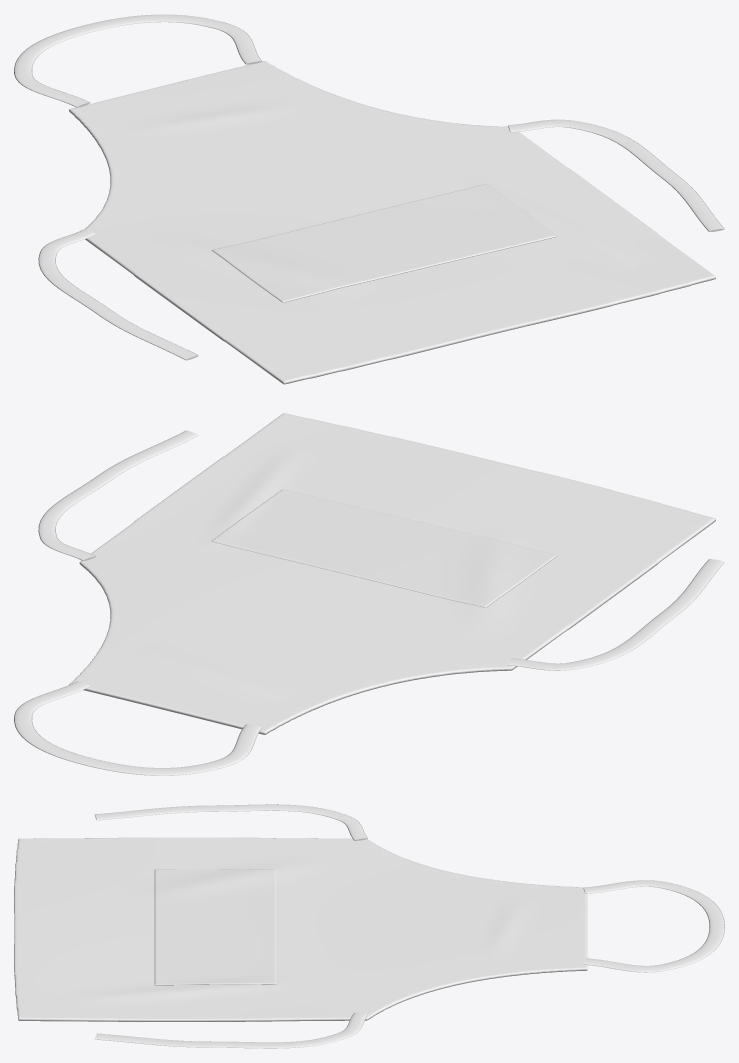
File: apron.glb
3 renders of one model, top to bottom at view 1: azimuth 30°, elevation 25°; view 2: azimuth 150°, elevation 25°; view 3: azimuth 270°, elevation 25°, orthographic. The views are drawn at different scales.
Parts seen in each view (by area): view 1: apron, pocket, neck, tie1, tie-1; view 2: apron, pocket, neck, tie1, tie-1; view 3: apron, pocket, neck, tie-1, tie1.
Part boxes in pixels (x1,y1,x2,y2): apron: (69,61,715,384); pocket: (211,184,557,302); neck: (14,14,262,107); tie1: (508,119,724,231); tie-1: (38,229,198,360); apron: (69,413,715,734); pocket: (211,489,556,607); neck: (14,681,262,775); tie1: (38,430,198,560); tie-1: (508,559,724,670); apron: (14,837,587,1021); pocket: (154,869,276,985); neck: (583,880,724,972); tie-1: (94,804,367,840); tie1: (94,1012,367,1048).
Size of the model in its own units: 0.8912 by 0.0114 by 1.1.
Materials: 6 (6 with a texture image).
